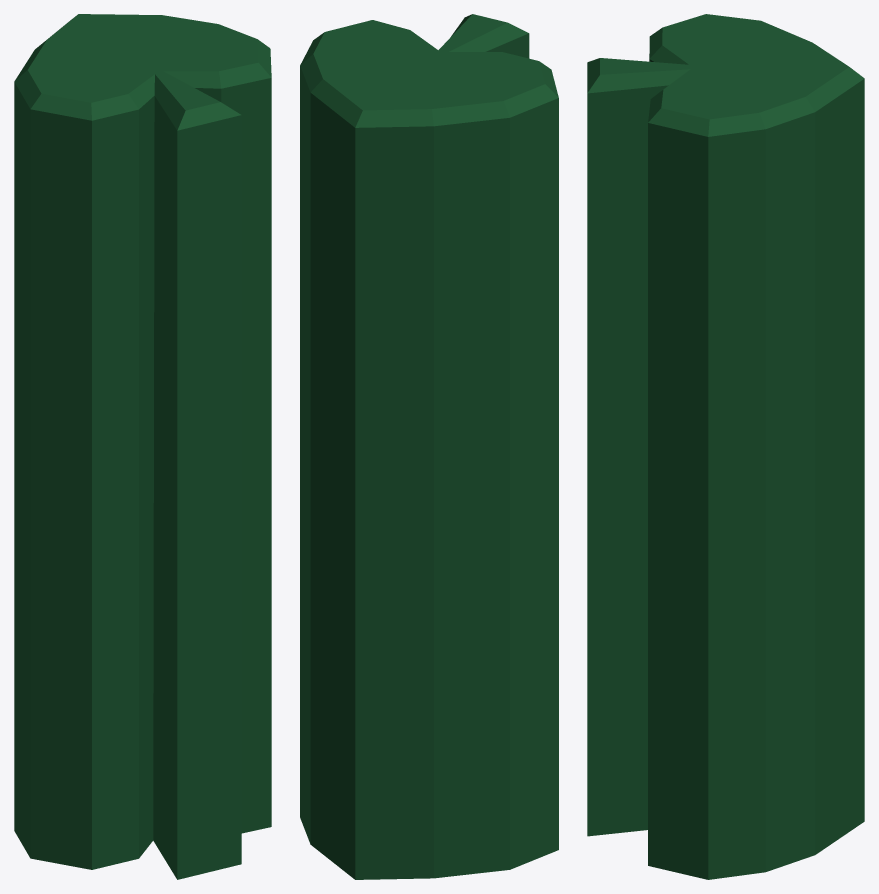
3 views of the same model, side by side, from view 1: azimuth 30°, elevation 25°; view 2: azimuth 150°, elevation 25°; view 3: azimuth 270°, elevation 25° (orthographic).
Visible parts, largest first — view 1: 平面.004; view 2: 平面.004; view 3: 平面.004.
Boxes of the visible parts, x1=… form: 平面.004: x1=14, y1=14, x2=271, y2=879; 平面.004: x1=300, y1=14, x2=558, y2=879; 平面.004: x1=587, y1=14, x2=864, y2=879.
Size of the model in its own units: 200 by 600 by 200.
